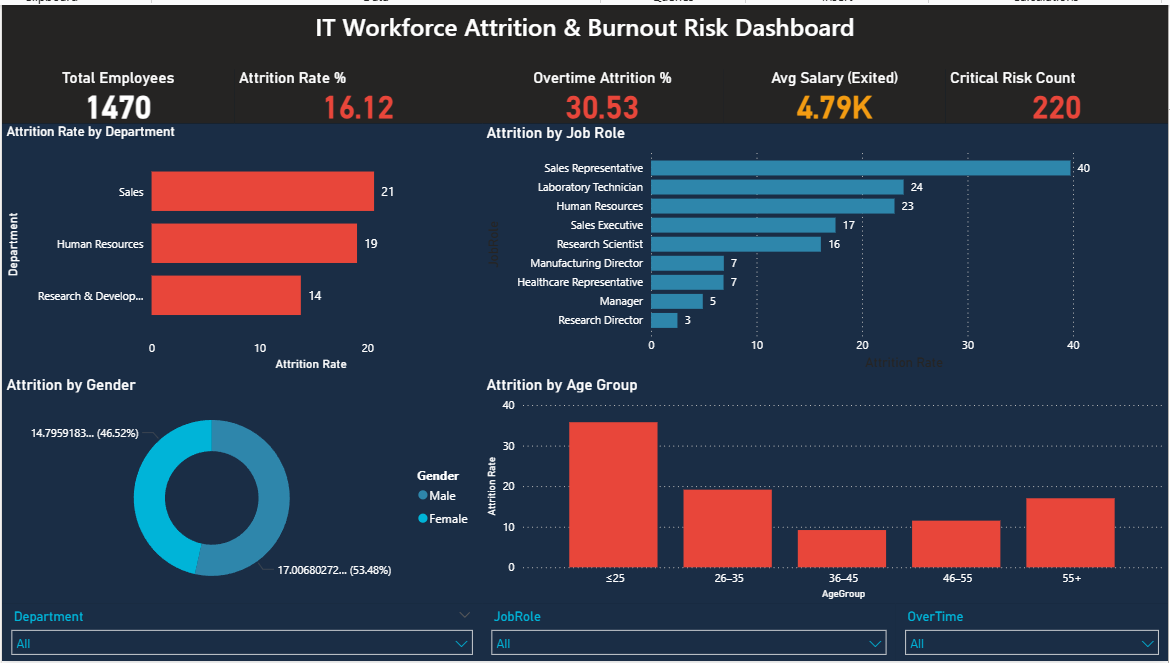

The page's visual inventory and layout, read from the dashboard file:
{"tool":"powerbi","page":{"name":"Summary","canvas":[1280,720],"ordinal":0},"visuals":[{"type":"shape","box":[0,0,1280.3,70],"z":0},{"type":"textbox","box":[0,0,1280,70],"z":1000},{"type":"card","title":"Overtime Attrition %","fields":{"Values":["HR.OverTime Attrition Rate"]},"box":[526.9,70,264.8,60.4],"z":2000},{"type":"card","title":"Attrition Rate %","fields":{"Values":["HR.Attrition Rate"]},"box":[255.2,70,271.7,60.4],"z":3000},{"type":"card","title":"Total Employees","fields":{"Values":["CountNonNull(HR.EmployeeCount)"]},"box":[0,70,255.2,60.4],"z":4000},{"type":"card","title":"Avg Salary (Exited)","fields":{"Values":["HR.Avg Income Left"]},"box":[791.8,70,244.3,60.4],"z":5000},{"type":"card","title":"Critical Risk Count","fields":{"Values":["HR.Critical Burnout Count"]},"box":[1036,70,244.3,60.4],"z":6000},{"type":"clusteredBarChart","title":"Attrition Rate by Department","fields":{"Category":["HR.Department"],"Y":["HR.Attrition Rate"]},"box":[0,130.4,526.9,275.8],"z":7000},{"type":"clusteredBarChart","title":"Attrition by Job Role","fields":{"Category":["HR.JobRole"],"Y":["HR.Attrition Rate"]},"box":[526.9,130.4,753.3,275.8],"z":8000},{"type":"donutChart","title":"Attrition by Gender","fields":{"Category":["HR.Gender"],"Y":["HR.Attrition Rate"]},"box":[0,406.2,526.9,251.1],"z":9000},{"type":"clusteredColumnChart","title":"Attrition by Age Group","fields":{"Category":["HR.AgeGroup"],"Y":["HR.Attrition Rate"]},"box":[526.9,406.2,753.3,251.1],"z":10000},{"type":"slicer","fields":{"Values":["HR.Department"]},"box":[0,657.3,526.9,63.1],"z":11000},{"type":"slicer","fields":{"Values":["HR.JobRole"]},"box":[526.9,657.3,454.2,63.1],"z":12000},{"type":"slicer","fields":{"Values":["HR.OverTime"]},"box":[981.1,657.3,299.1,63.1],"z":13000}]}

Visuals, with their boxes in screenshot pixels (x1, y1, x2, y2), scaled from the page's 1280x720 canvas onto the 1170x663 screenshot:
shape: (0,0,1169,64)
textbox: (0,0,1169,64)
"Overtime Attrition %" card: (482,64,724,120)
"Attrition Rate %" card: (233,64,482,120)
"Total Employees" card: (0,64,233,120)
"Avg Salary (Exited)" card: (724,64,947,120)
"Critical Risk Count" card: (947,64,1169,120)
"Attrition Rate by Department" clusteredBarChart: (0,120,482,374)
"Attrition by Job Role" clusteredBarChart: (482,120,1169,374)
"Attrition by Gender" donutChart: (0,374,482,605)
"Attrition by Age Group" clusteredColumnChart: (482,374,1169,605)
slicer - HR.Department: (0,605,482,662)
slicer - HR.JobRole: (482,605,897,662)
slicer - HR.OverTime: (897,605,1169,662)
